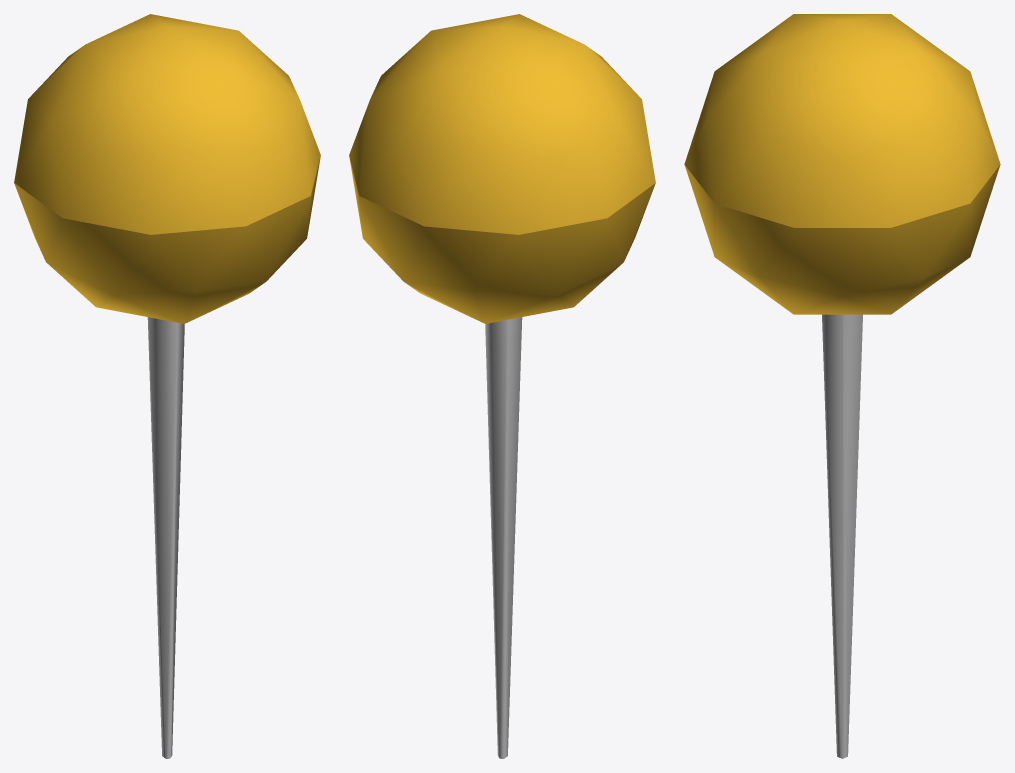
File: PetitePunaiseRig.fbx
3 views of the same model, side by side, from view 1: azimuth 30°, elevation 25°; view 2: azimuth 150°, elevation 25°; view 3: azimuth 270°, elevation 25° (orthographic).
Parts seen in each view (by area): view 1: punaisePetite; view 2: punaisePetite; view 3: punaisePetite.
Part boxes in pixels (box(x1,y1,x2,y2)): punaisePetite: box(14, 14, 320, 758); punaisePetite: box(349, 14, 655, 758); punaisePetite: box(684, 14, 1000, 758).
Bounding box in the file's own units: 3.5 × 9.45 × 3.68.
